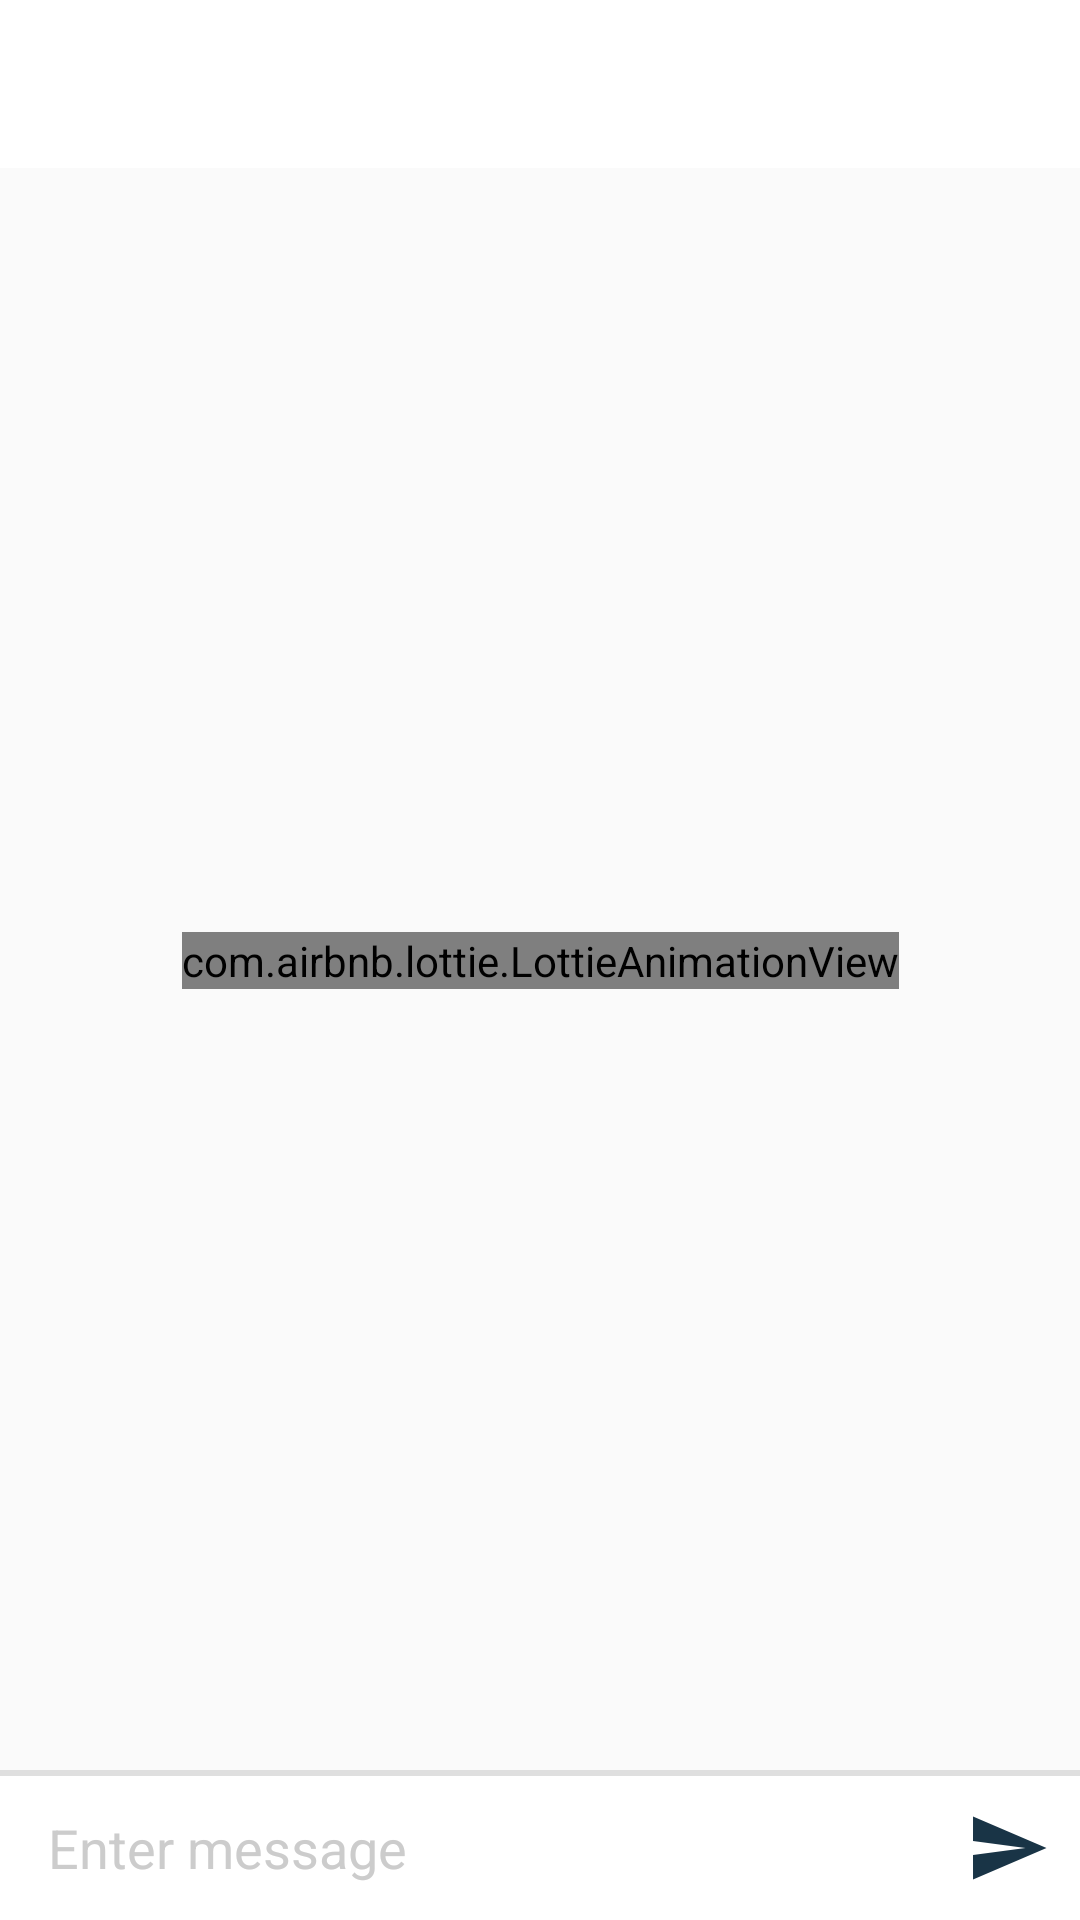

Icons on this 1080*1920 Android screen, each with its box as (x1,y1,x2,y2):
send: (973,1816,1046,1880)
